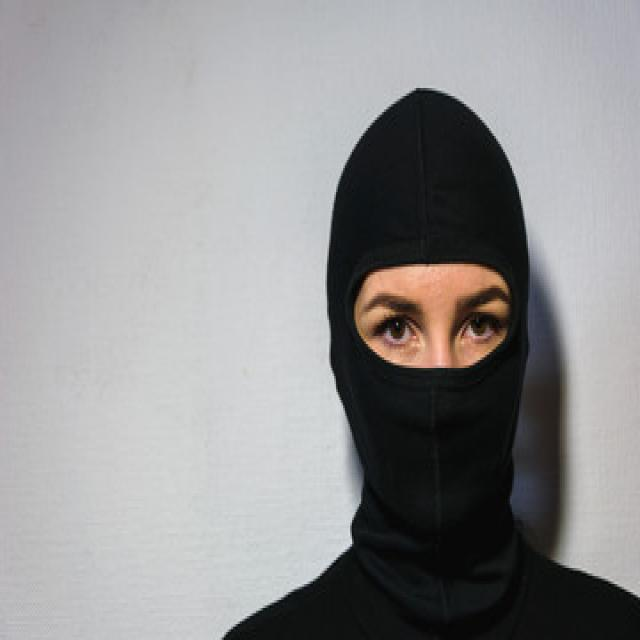handguns: (14, 85, 634, 638), (219, 94, 636, 637)
